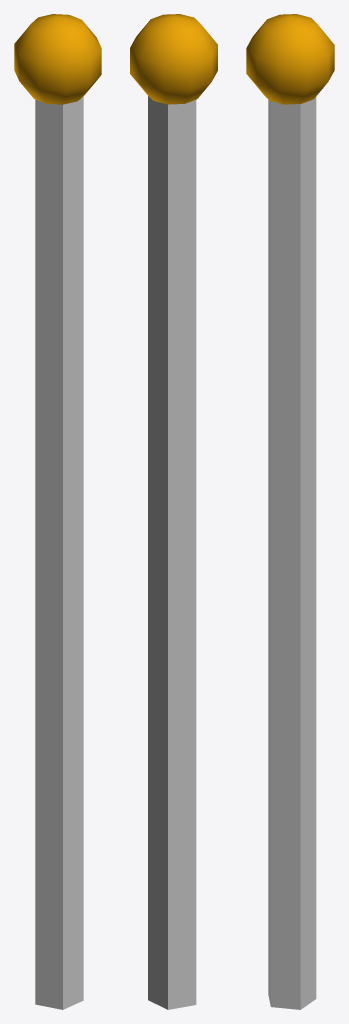
The model's file is FlagPole.fbx.
3 views of the same model, side by side, from view 1: azimuth 30°, elevation 25°; view 2: azimuth 150°, elevation 25°; view 3: azimuth 330°, elevation 25° (orthographic).
Parts seen in each view (by area): view 1: FlagPole; view 2: FlagPole; view 3: FlagPole.
Boxes of the visible parts, x1,y1,x2,y2 form: FlagPole: [14, 14, 101, 1009]; FlagPole: [130, 14, 217, 1009]; FlagPole: [246, 14, 334, 1009].
Bounding box in the file's own units: 28.53 × 350 × 27.29.
